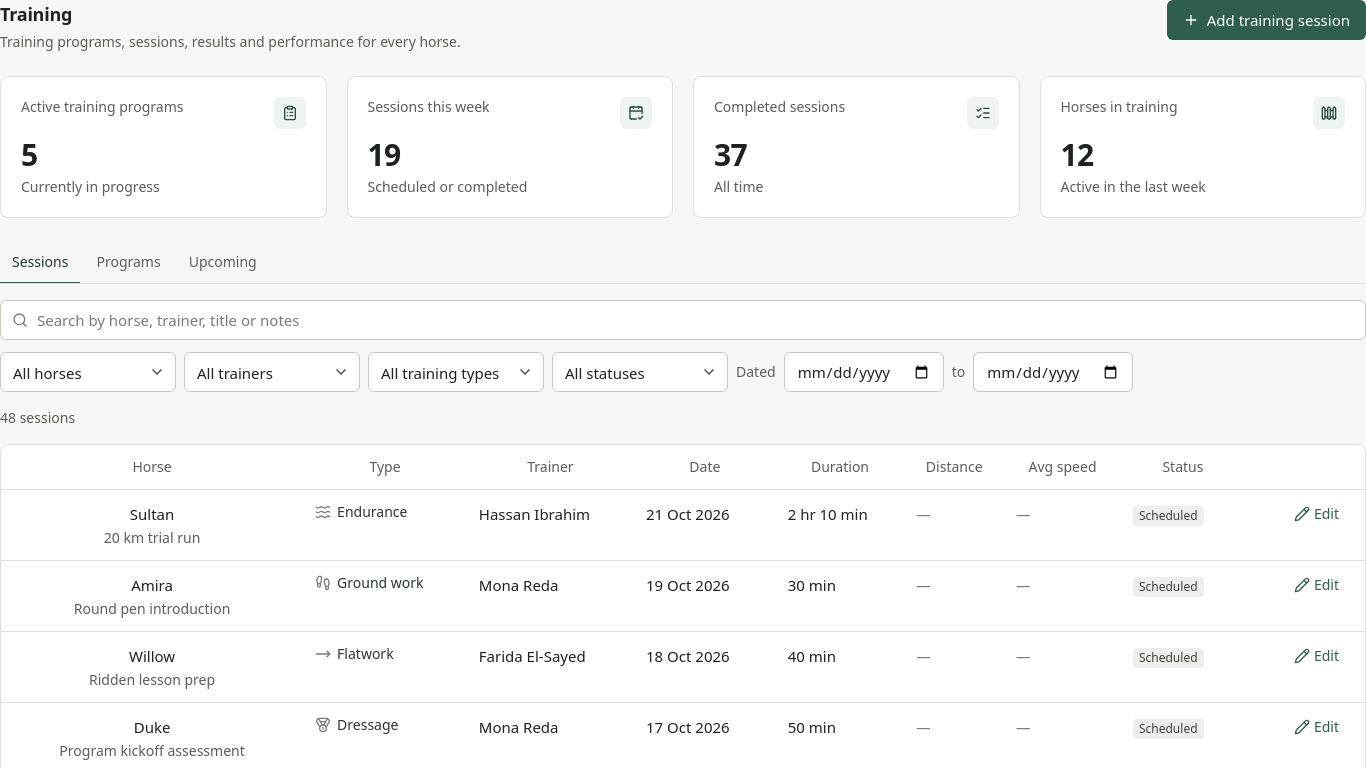
Test case: TrainingOverviewPage › distinguishes no results from no data
This screenshot has width=1366, height=768.
Type "no such session anywhere" into the search field named "search training sessions" at (683, 320), box x1=0 y1=300 x2=1365 y2=340
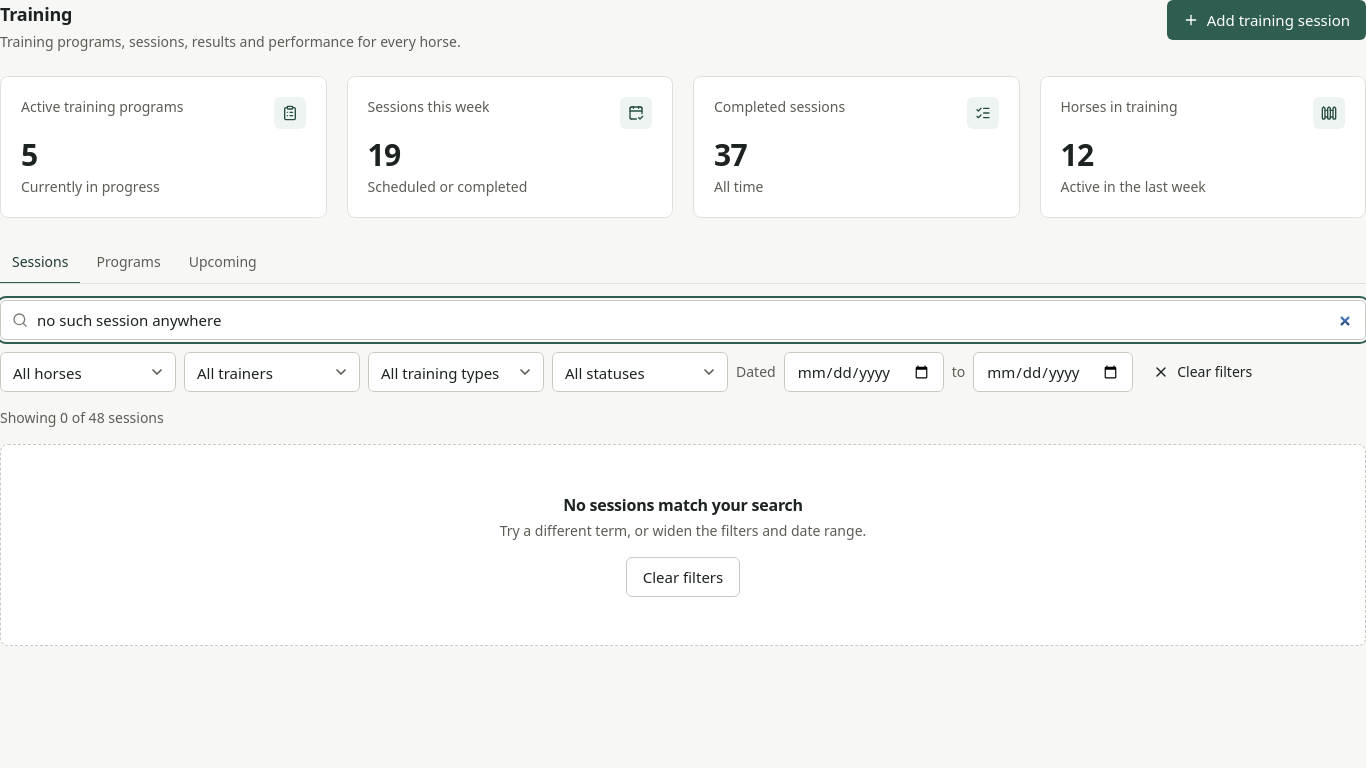
Expected: the text "No training sessions yet" is not shown
Expected: the heading "No sessions match your search" is shown, x1=563 y1=494 x2=803 y2=516
